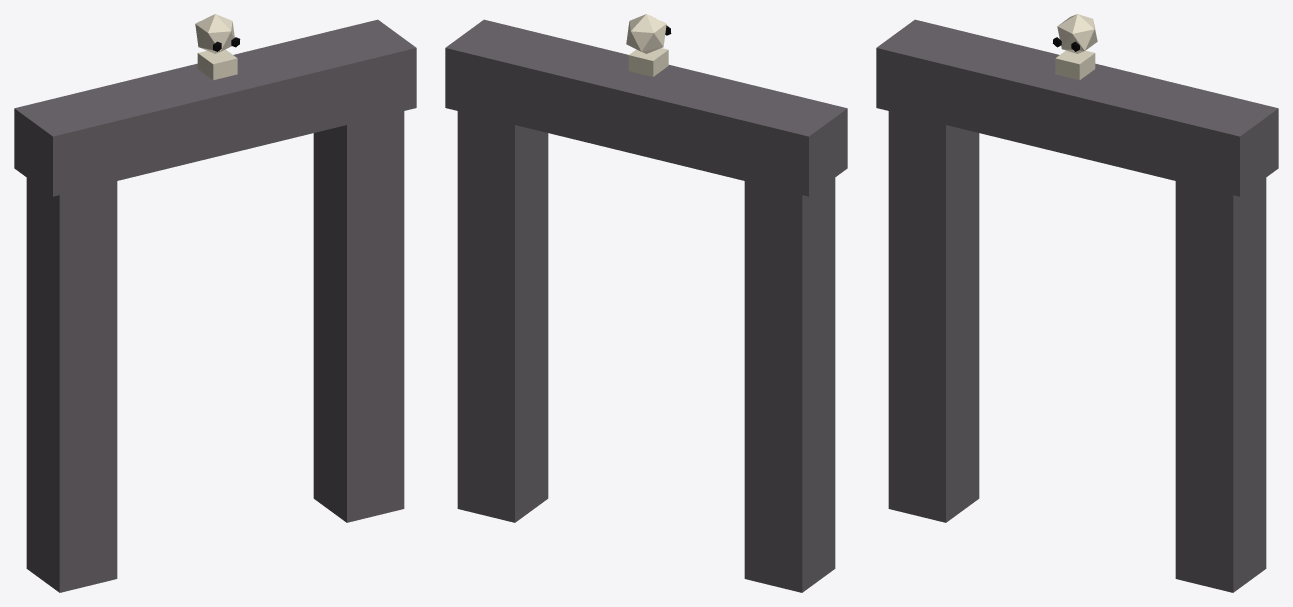
File: Bld_OR_SkullArch_00.glb
3 renders of one model, left to right at view 1: azimuth 30°, elevation 25°; view 2: azimuth 150°, elevation 25°; view 3: azimuth 330°, elevation 25°, orthographic.
Visible parts, largest first — view 1: Bld_OR_SkullArch_00; view 2: Bld_OR_SkullArch_00; view 3: Bld_OR_SkullArch_00.
Boxes of the visible parts, x1,y1,x2,y2 form: Bld_OR_SkullArch_00: [14, 14, 416, 592]; Bld_OR_SkullArch_00: [445, 14, 847, 592]; Bld_OR_SkullArch_00: [876, 14, 1278, 592].
Size of the model in its own units: 3.8 by 5.24 by 0.7.
